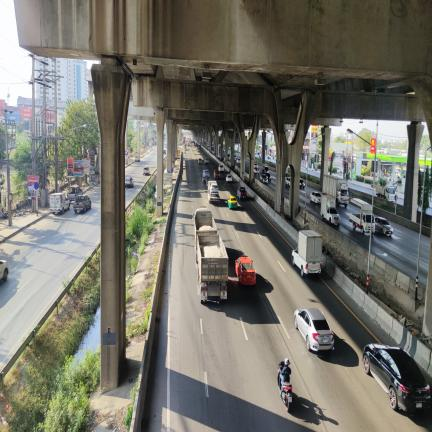car: (363, 343, 431, 411), (294, 308, 334, 351), (375, 216, 393, 236), (310, 192, 321, 203), (125, 177, 134, 188), (260, 174, 268, 183), (265, 172, 272, 182), (143, 167, 150, 175), (262, 166, 269, 174), (225, 174, 232, 182), (218, 165, 224, 173), (204, 158, 209, 164)
human: (278, 359, 291, 388)
motorbike: (279, 379, 292, 411), (278, 362, 284, 383)
pickup: (73, 195, 91, 213), (67, 186, 83, 201), (237, 186, 247, 199), (214, 170, 220, 179), (198, 158, 203, 164)
taxi: (235, 255, 256, 285), (227, 196, 237, 209), (254, 166, 260, 174)
truck: (292, 230, 322, 277), (349, 198, 375, 234), (322, 174, 349, 208), (320, 194, 340, 225), (50, 192, 70, 214), (376, 184, 397, 202), (207, 180, 220, 203), (202, 170, 210, 183), (135, 152, 140, 162)
truck trailer: (196, 233, 228, 302), (193, 206, 217, 250)
